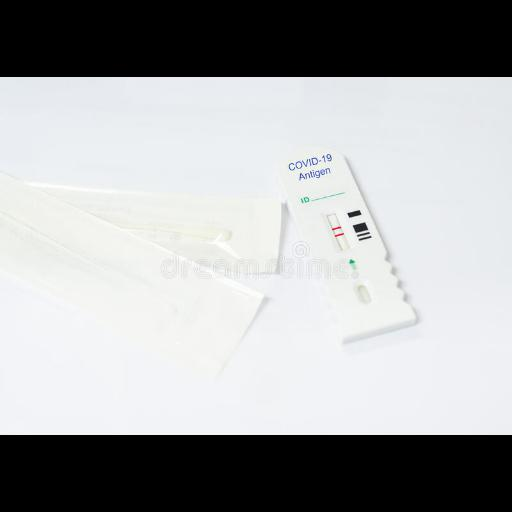Pos: (277, 137, 418, 338)
